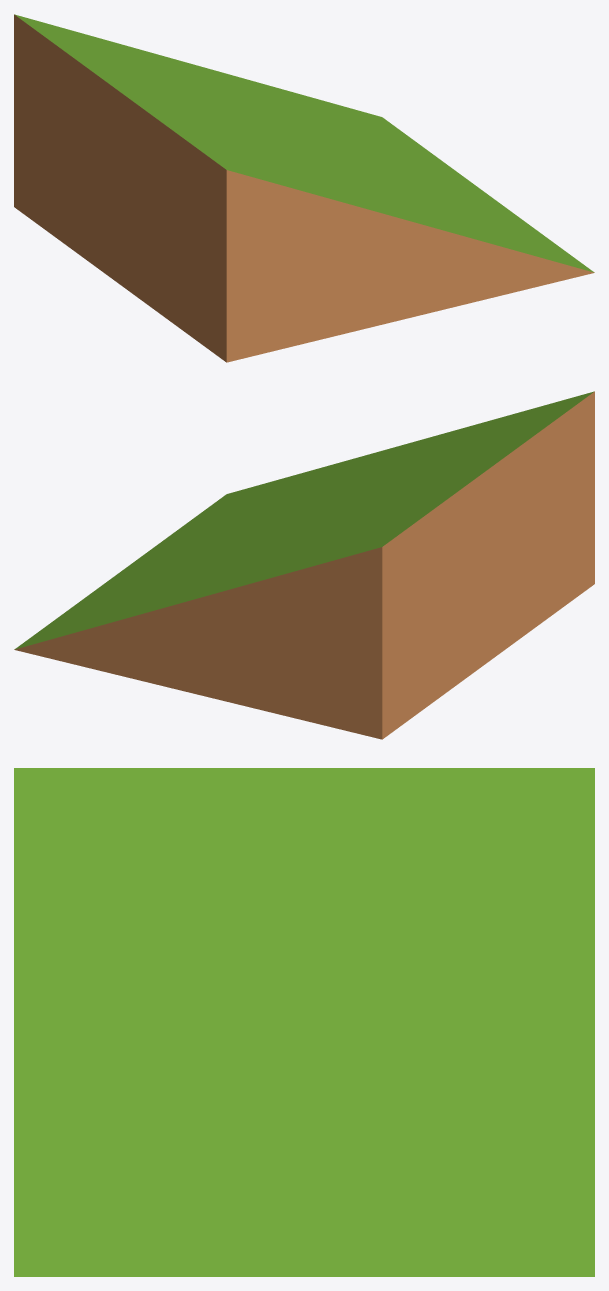
Rendered from Ground_08.fbx.
3 renders of one model, top to bottom at view 1: azimuth 30°, elevation 25°; view 2: azimuth 150°, elevation 25°; view 3: azimuth 270°, elevation 25°, orthographic. The views are drawn at different scales.
Parts seen in each view (by area): view 1: Ground_08; view 2: Ground_08; view 3: Ground_08.
Boxes of the visible parts, box(x1,y1,x2,y2) form: Ground_08: box(14, 14, 594, 362); Ground_08: box(14, 391, 594, 739); Ground_08: box(14, 768, 594, 1276).
Bounding box in the file's own units: 100 × 50 × 100.
